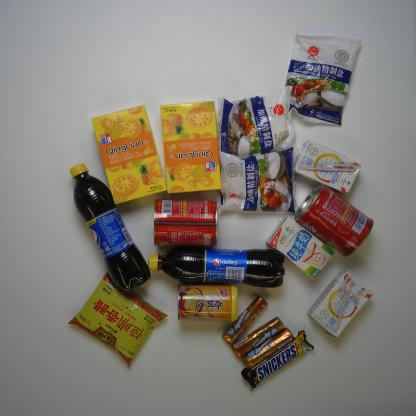Candy: (219, 290, 269, 348), (239, 325, 296, 370), (228, 315, 286, 359)
Canned Food: (290, 179, 378, 259), (149, 194, 221, 250), (173, 281, 240, 324)
Chocolate: (238, 328, 316, 394)
Dessert: (89, 102, 169, 206), (158, 97, 224, 196)
Drink: (67, 161, 153, 296), (143, 244, 287, 290)
Milk: (304, 266, 377, 341), (264, 213, 338, 282), (290, 136, 364, 197)
Seasoner: (65, 270, 170, 368), (280, 28, 364, 128), (210, 143, 302, 217), (214, 83, 297, 161)
